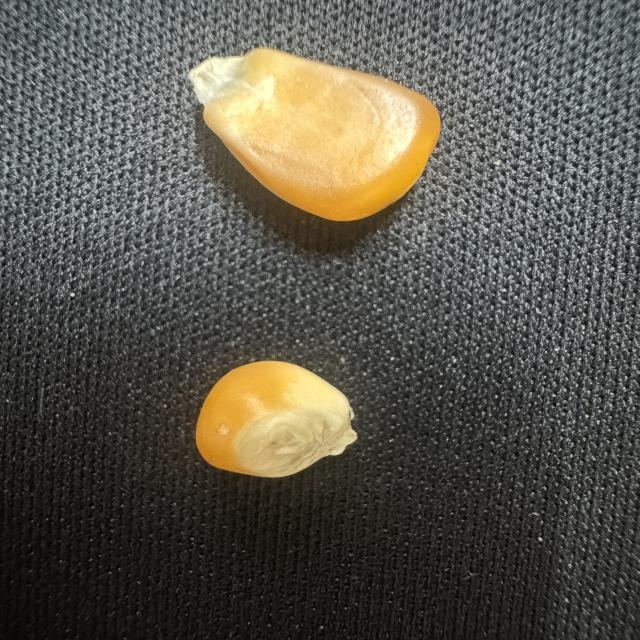Bad-Seed: (180, 351, 364, 490)
Good-Seed: (163, 38, 470, 230)
